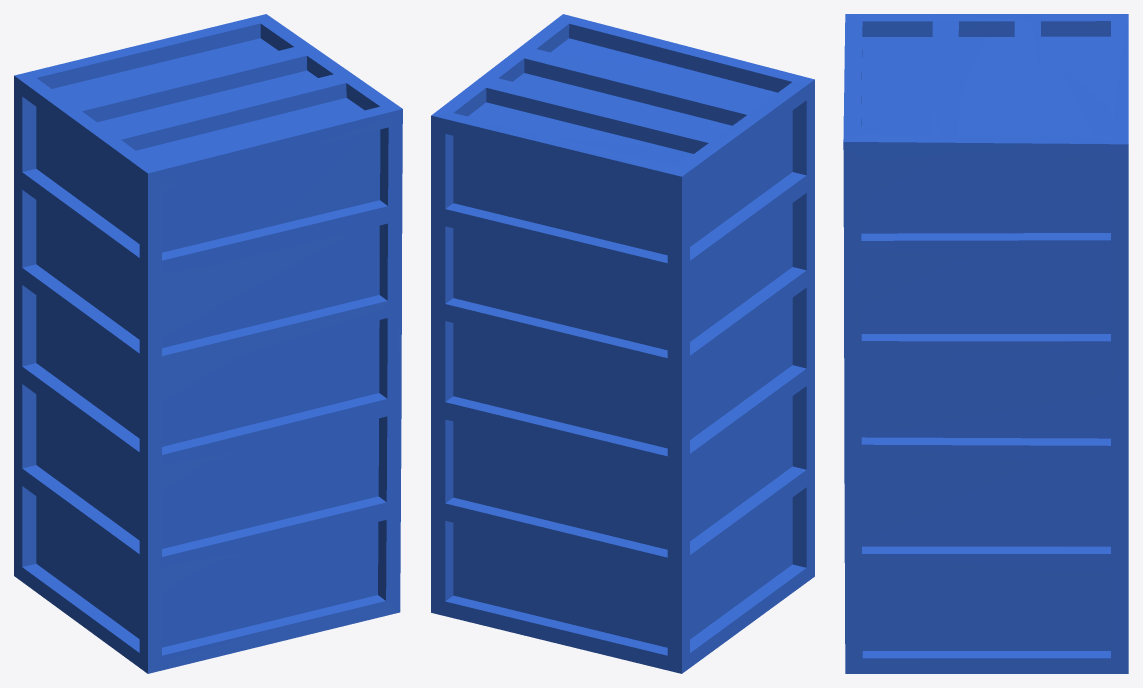
Rendered from JiZhuangXiang2_Mo.fbx.
3 views of the same model, side by side, from view 1: azimuth 30°, elevation 25°; view 2: azimuth 150°, elevation 25°; view 3: azimuth 270°, elevation 25° (orthographic). The views are drawn at different scales.
Visible parts, largest first — view 1: 对象002; view 2: 对象002; view 3: 对象002.
Part boxes in pixels (<box>): 对象002: <box>14,14,402,673</box>; 对象002: <box>431,14,814,673</box>; 对象002: <box>843,14,1128,673</box>.
Size of the model in its own units: 189 by 358 by 174.
Materials: 1 (1 with a texture image).
